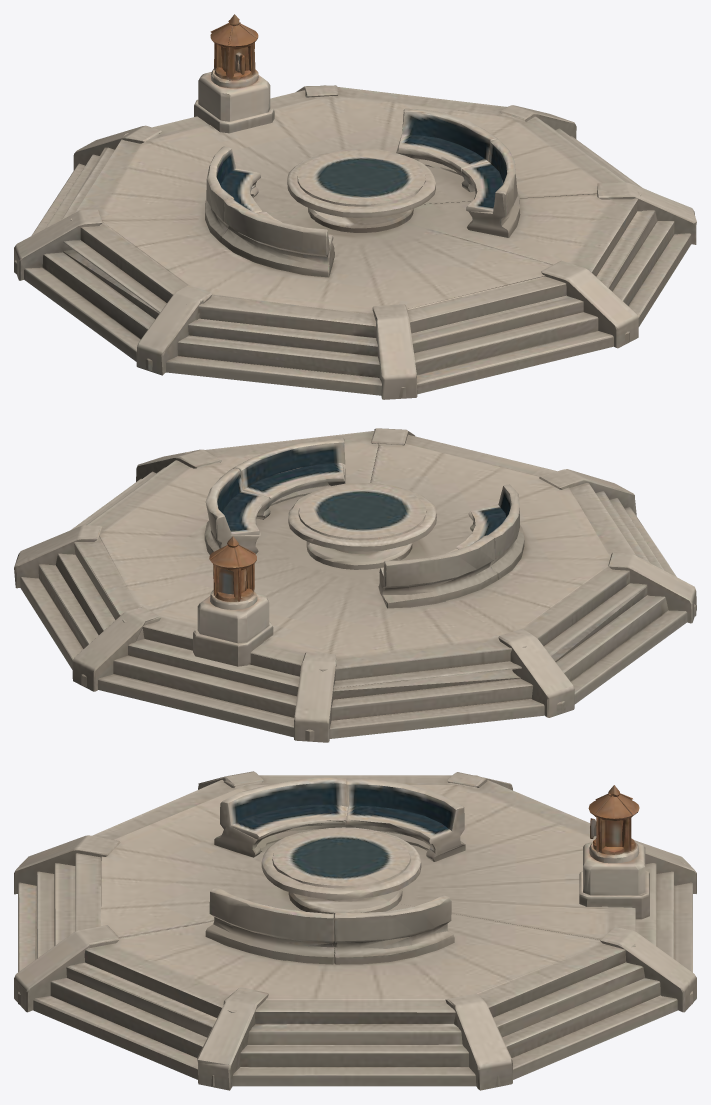
File: civic-plaza-map.glb
3 views of the same model, one above another, from view 1: azimuth 30°, elevation 25°; view 2: azimuth 150°, elevation 25°; view 3: azimuth 270°, elevation 25° (orthographic). The views are drawn at different scales.
Size of the model in its own units: 0.9482 by 0.2476 by 0.9478.
1 material, 1 textured.
